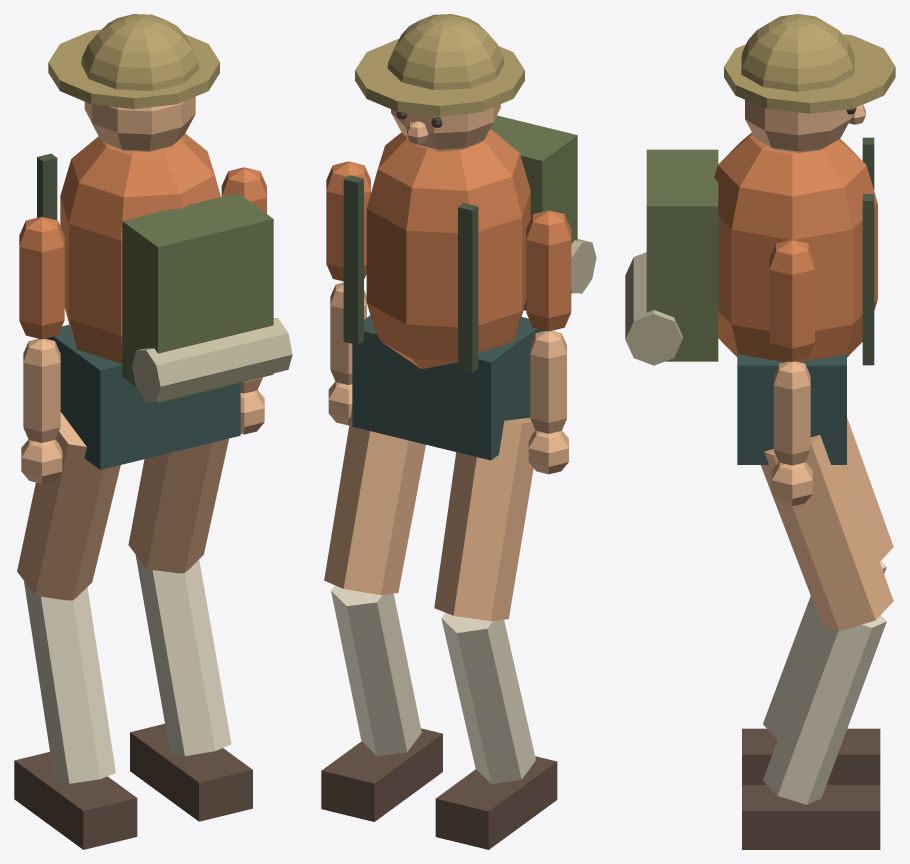
Rendered from hiker.glb.
3 views of the same model, side by side, from view 1: azimuth 30°, elevation 25°; view 2: azimuth 150°, elevation 25°; view 3: azimuth 270°, elevation 25° (orthographic).
Parts seen in each view (by area): view 1: Torso, Head, Pelvis, Shin_L, Shin_R, Thigh_L, Thigh_R, Shoe_L, Shoe_R, Shoulder_L, Elbow_L, Hand_L (+2 smaller); view 2: Torso, Pelvis, Head, Thigh_L, Thigh_R, Shin_L, Shin_R, Shoe_L, Shoe_R, Shoulder_L, Elbow_L, Shoulder_R (+3 smaller); view 3: Torso, Head, Thigh_R, Shin_R, Shoe_R, Pelvis, Shoulder_R, Shoe_L, Elbow_R, Shin_L, Thigh_L, Hand_R.
Part boxes in pixels (x1,y1,x2,y2): Torso: [37, 133, 292, 402]; Head: [48, 14, 219, 151]; Pelvis: [46, 324, 240, 469]; Shin_L: [24, 581, 115, 783]; Shin_R: [135, 555, 231, 756]; Thigh_L: [17, 412, 120, 600]; Thigh_R: [128, 438, 228, 573]; Shoe_L: [14, 752, 137, 849]; Shoe_R: [130, 723, 252, 821]; Shoulder_L: [19, 216, 64, 339]; Elbow_L: [23, 338, 60, 442]; Hand_L: [21, 439, 62, 483]; Torso: [343, 115, 596, 372]; Pelvis: [352, 315, 544, 460]; Head: [355, 14, 524, 151]; Thigh_L: [434, 417, 535, 621]; Thigh_R: [324, 408, 425, 594]; Shin_L: [441, 612, 535, 783]; Shin_R: [331, 585, 421, 755]; Shoe_L: [435, 756, 557, 849]; Shoe_R: [321, 728, 442, 821]; Shoulder_L: [526, 210, 571, 331]; Elbow_L: [530, 331, 566, 433]; Shoulder_R: [326, 161, 370, 281]; Torso: [625, 132, 877, 365]; Head: [724, 14, 895, 152]; Thigh_R: [761, 434, 893, 631]; Shin_R: [763, 615, 886, 804]; Shoe_R: [742, 785, 880, 849]; Pelvis: [737, 353, 846, 464]; Shoulder_R: [769, 239, 814, 361]; Shoe_L: [742, 728, 880, 784]; Elbow_R: [773, 361, 810, 465]; Shin_L: [763, 561, 886, 739]; Thigh_L: [845, 417, 893, 561]; Hand_R: [771, 462, 812, 506].
Size of the model in its own units: 0.6 by 1.83 by 0.567.
